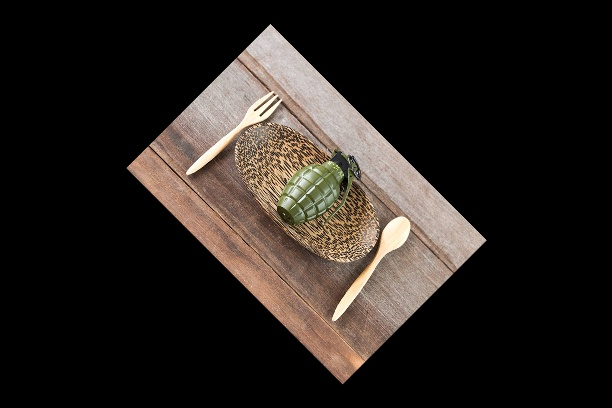e1: (276, 150, 361, 227)
